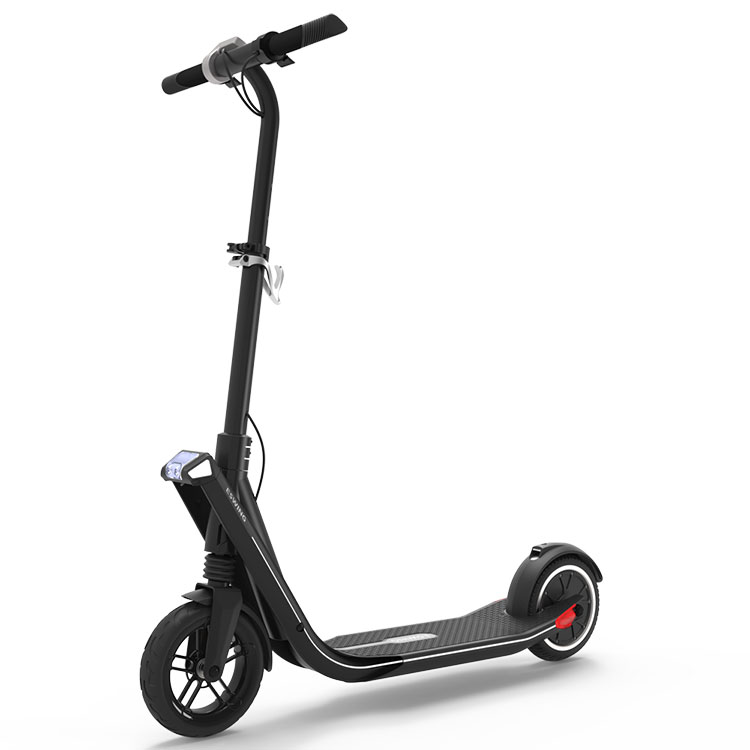kick_board: (138, 10, 607, 741)
kick_body: (265, 586, 530, 688)
kick_handler: (153, 13, 346, 97)
kick_neck: (205, 82, 291, 577)
kick_wheel: (142, 591, 265, 734), (509, 541, 605, 666)
